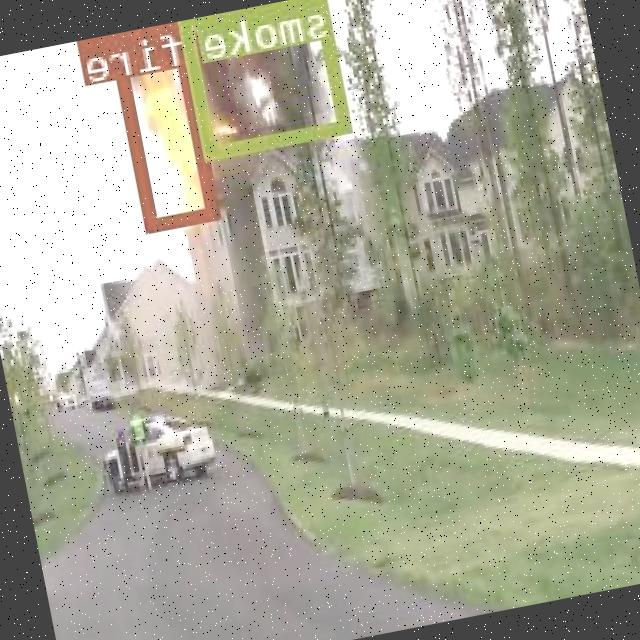fire: (110, 20, 224, 231)
smoke: (181, 0, 353, 158)
